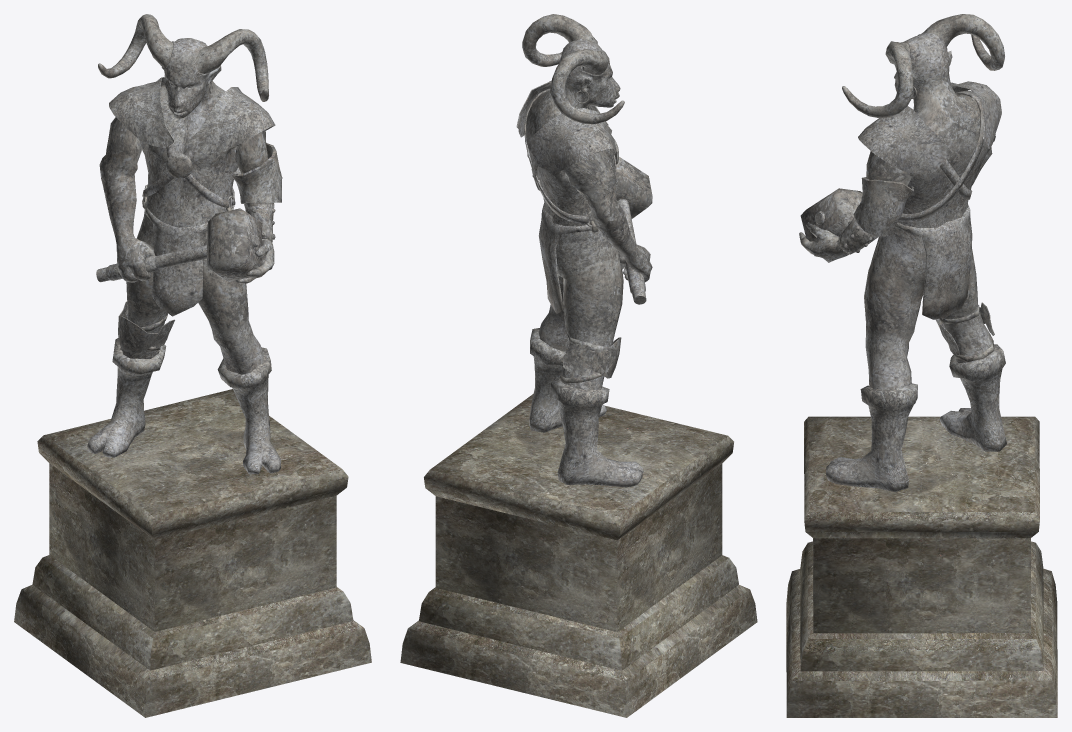
File: Belial_Statues_01.FBX
The picture shows the model from 3 angles, left to right: view 1: azimuth 30°, elevation 25°; view 2: azimuth 150°, elevation 25°; view 3: azimuth 270°, elevation 25°; orthographic projection. The views are drawn at different scales.
Parts seen in each view (by area): view 1: Pedestal_02, Belial_Statue001; view 2: Pedestal_02, Belial_Statue001; view 3: Pedestal_02, Belial_Statue001.
Boxes of the visible parts, x1,y1,x2,y2 form: Pedestal_02: [14, 389, 371, 717]; Belial_Statue001: [87, 14, 282, 474]; Pedestal_02: [400, 394, 757, 717]; Belial_Statue001: [516, 14, 652, 487]; Pedestal_02: [786, 416, 1057, 717]; Belial_Statue001: [799, 14, 1006, 491].
Size of the model in its own units: 125 by 324 by 125.
